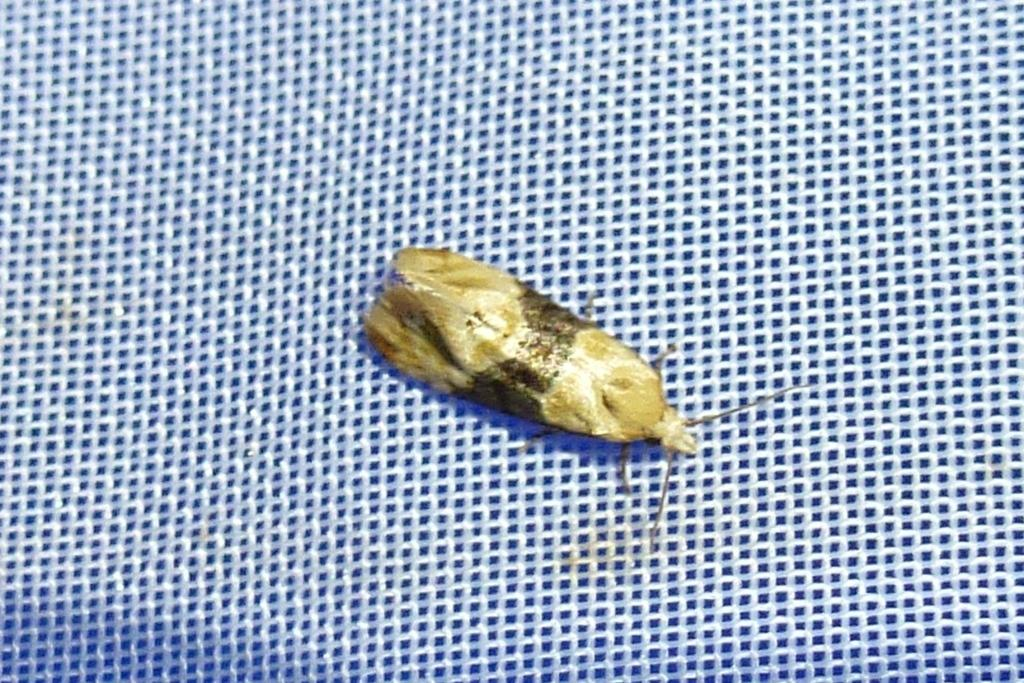Eupoecilia Ambiguella: (358, 241, 815, 556)
